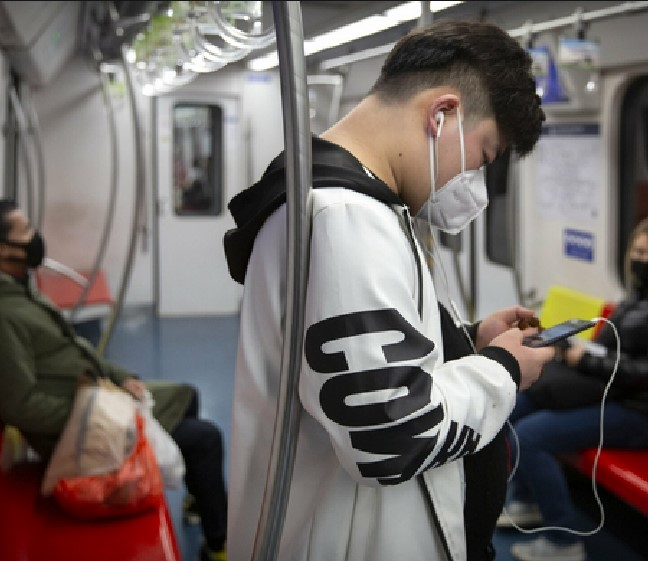face_with_mask: (381, 28, 533, 238), (0, 197, 48, 273), (623, 218, 648, 291)
